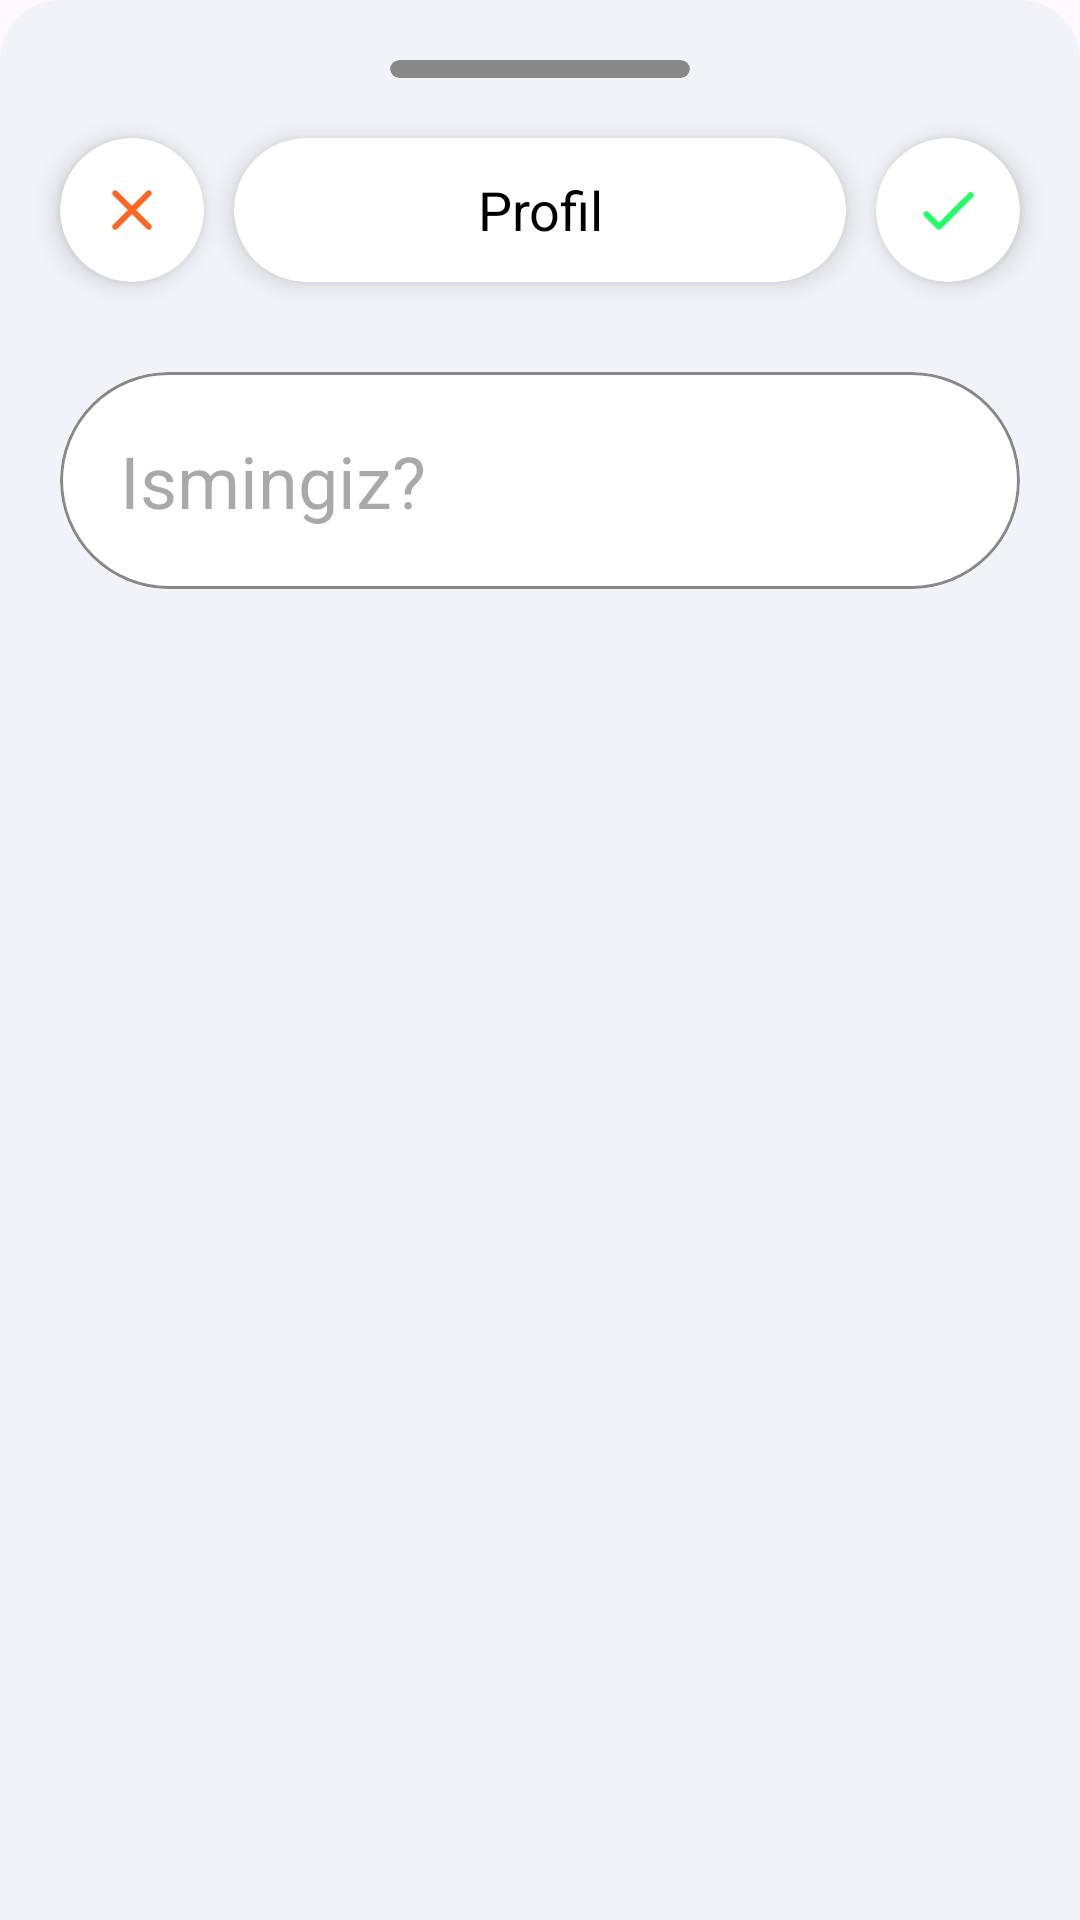

Screen size 1080 x 1920. Icon name, then its box in pixels as (x1, y1, x2, y2):
close: (60, 138, 204, 282)
done: (876, 138, 1020, 282)
